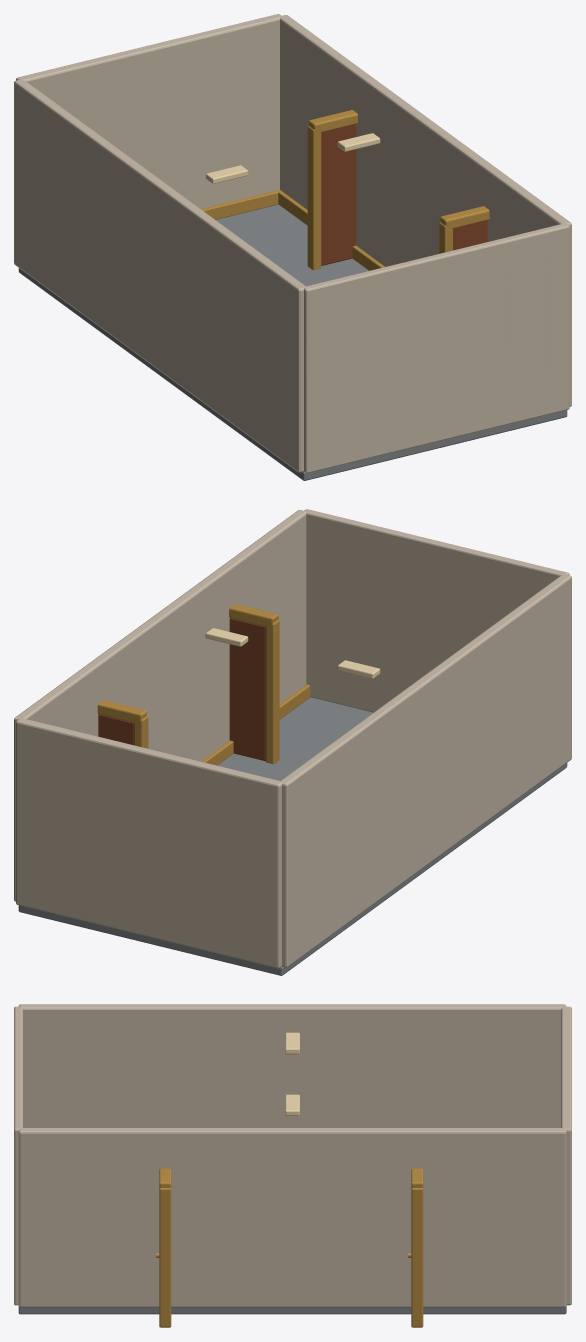
File: apartment_hall_straight_a.glb
3 views of the same model, one above another, from view 1: azimuth 30°, elevation 25°; view 2: azimuth 150°, elevation 25°; view 3: azimuth 270°, elevation 25° (orthographic). The views are drawn at different scales.
Parts seen in each view (by area): view 1: SET_Wall_Left, CUTAWAY_FRONT, SET_Wall_Back, SET_Wall_Right, SET_Floor, SET_Apartment_2_Door, SET_Apartment_2_Jamb_L, SET_Baseboard_Back, SET_Trim_Right, SET_Apartment_1_Door, SET_Apartment_1_Header, SET_Apartment_2_Header; view 2: SET_Wall_Left, SET_Wall_Back, CUTAWAY_FRONT, SET_Wall_Right, SET_Floor, SET_Apartment_1_Door, SET_Apartment_1_Jamb_L, SET_Trim_Right, SET_Apartment_2_Door, SET_Apartment_2_Header, SET_Apartment_1_Header; view 3: SET_Wall_Right, SET_Wall_Left, SET_Floor, SET_Wall_Back, CUTAWAY_FRONT, SET_Apartment_2_Jamb_R, SET_Apartment_1_Jamb_R.
Part boxes in pixels (<box>): SET_Wall_Left: <box>14,79,305,472</box>; CUTAWAY_FRONT: <box>304,223,569,473</box>; SET_Wall_Back: <box>16,14,281,208</box>; SET_Wall_Right: <box>280,15,571,406</box>; SET_Floor: <box>18,204,567,480</box>; SET_Apartment_2_Door: <box>321,124,356,265</box>; SET_Apartment_2_Jamb_L: <box>307,125,321,270</box>; SET_Baseboard_Back: <box>201,190,281,219</box>; SET_Trim_Right: <box>278,190,384,270</box>; SET_Apartment_1_Door: <box>453,220,487,250</box>; SET_Apartment_1_Header: <box>440,206,489,229</box>; SET_Apartment_2_Header: <box>308,110,357,132</box>; SET_Wall_Left: <box>280,574,571,967</box>; SET_Wall_Back: <box>16,718,281,968</box>; CUTAWAY_FRONT: <box>304,509,569,712</box>; SET_Wall_Right: <box>14,510,306,901</box>; SET_Floor: <box>18,697,567,975</box>; SET_Apartment_1_Door: <box>229,618,265,760</box>; SET_Apartment_1_Jamb_L: <box>265,619,279,764</box>; SET_Trim_Right: <box>201,684,310,765</box>; SET_Apartment_2_Door: <box>98,714,134,745</box>; SET_Apartment_2_Header: <box>97,700,146,723</box>; SET_Apartment_1_Header: <box>229,604,278,626</box>; SET_Wall_Right: <box>18,1128,566,1307</box>; SET_Wall_Left: <box>18,1004,566,1127</box>; SET_Floor: <box>18,1306,566,1314</box>; SET_Wall_Back: <box>561,1006,571,1305</box>; CUTAWAY_FRONT: <box>14,1006,22,1305</box>; SET_Apartment_2_Jamb_R: <box>411,1188,423,1327</box>; SET_Apartment_1_Jamb_R: <box>159,1188,171,1327</box>.
Size of what is drawn, in the model's own units: 5.55 by 3.36 by 9.17.
